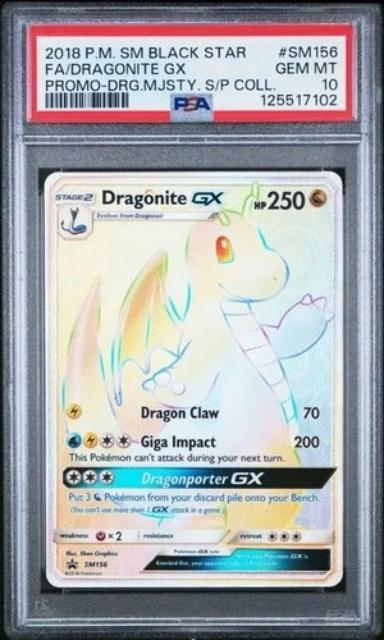Card: (39, 166, 348, 592)
Name: (96, 187, 230, 212)
